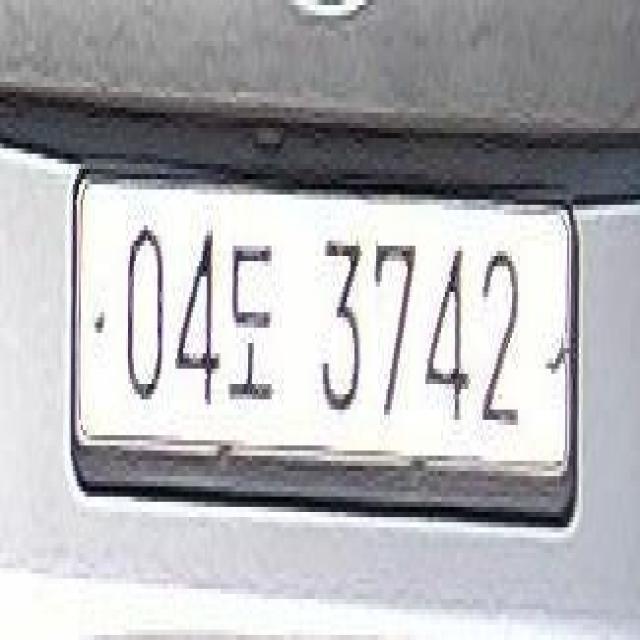illegal_plate: (72, 156, 581, 534)
